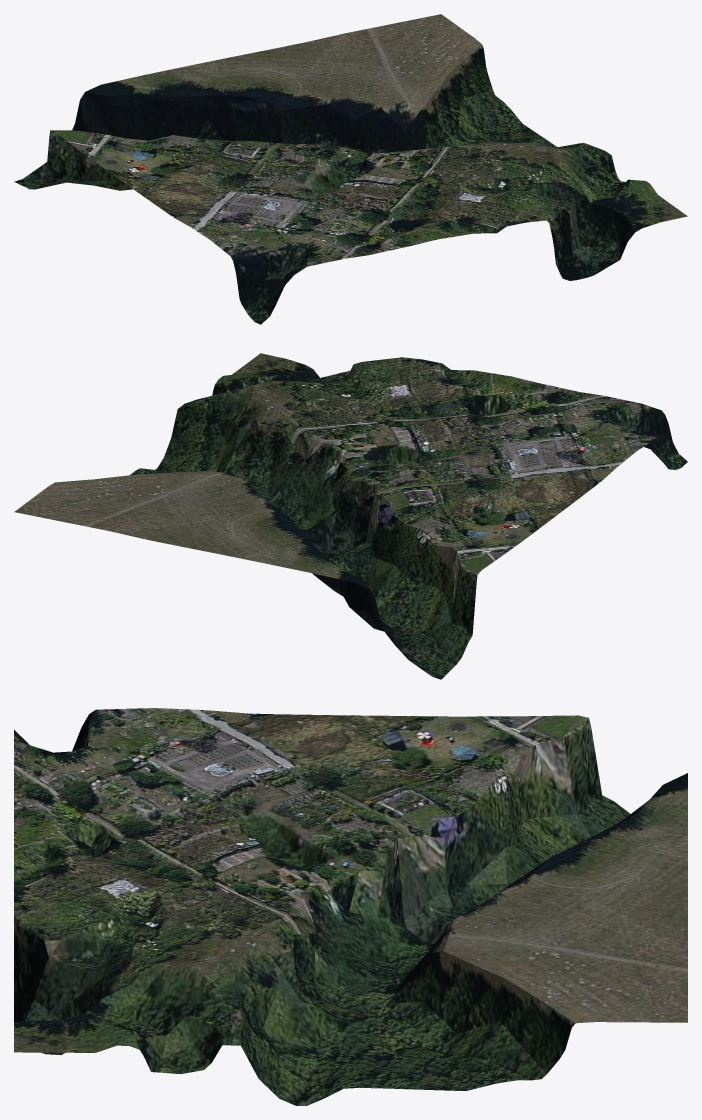
The model's file is map_15_8176_13782.dae.
3 renders of one model, top to bottom at view 1: azimuth 30°, elevation 25°; view 2: azimuth 150°, elevation 25°; view 3: azimuth 270°, elevation 25°, orthographic. The views are drawn at different scales.
Parts seen in each view (by area): view 1: Ter0; view 2: Ter0; view 3: Ter0.
Part boxes in pixels (x1=…): Ter0: x1=14, y1=14, x2=687, y2=324; Ter0: x1=14, y1=353, x2=687, y2=679; Ter0: x1=14, y1=708, x2=687, y2=1105.
Bounding box in the file's own units: 63.88 × 63.88 × 12.18.
Materials: 3 (3 with a texture image).
